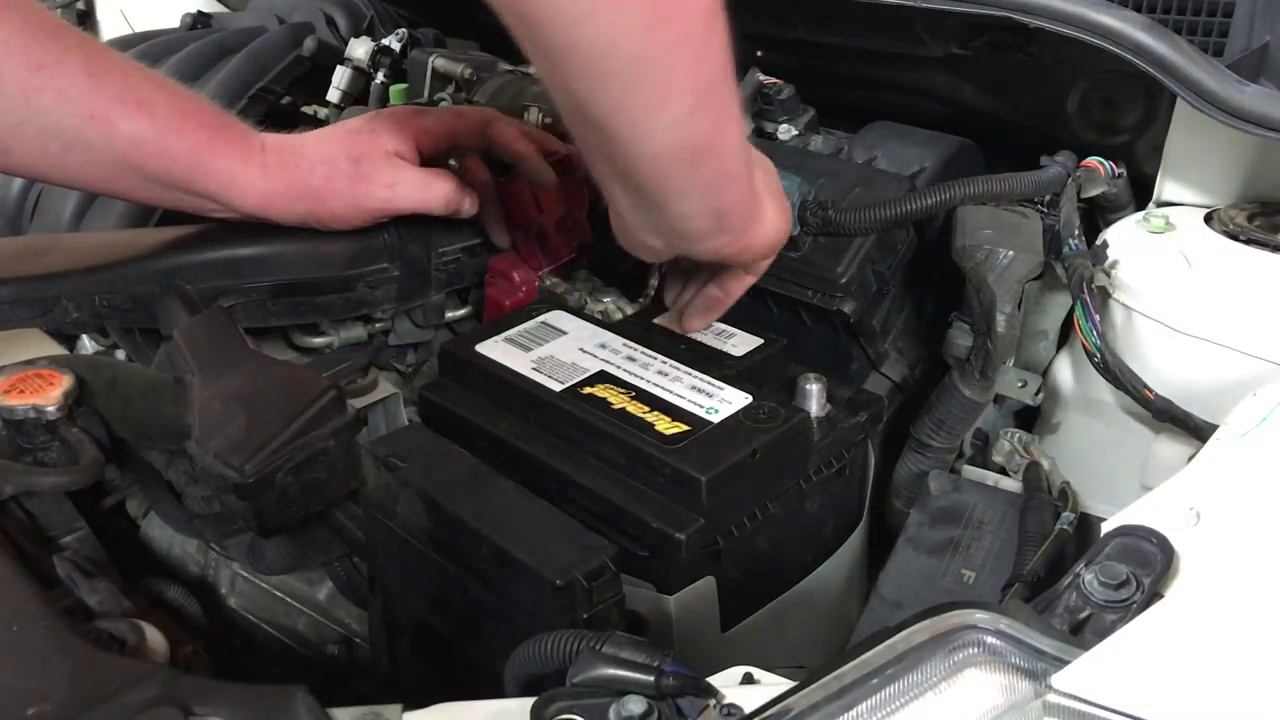battery: (439, 291, 849, 485)
neg_disconnected: (760, 361, 877, 444)
pos_touched: (435, 120, 696, 323)
